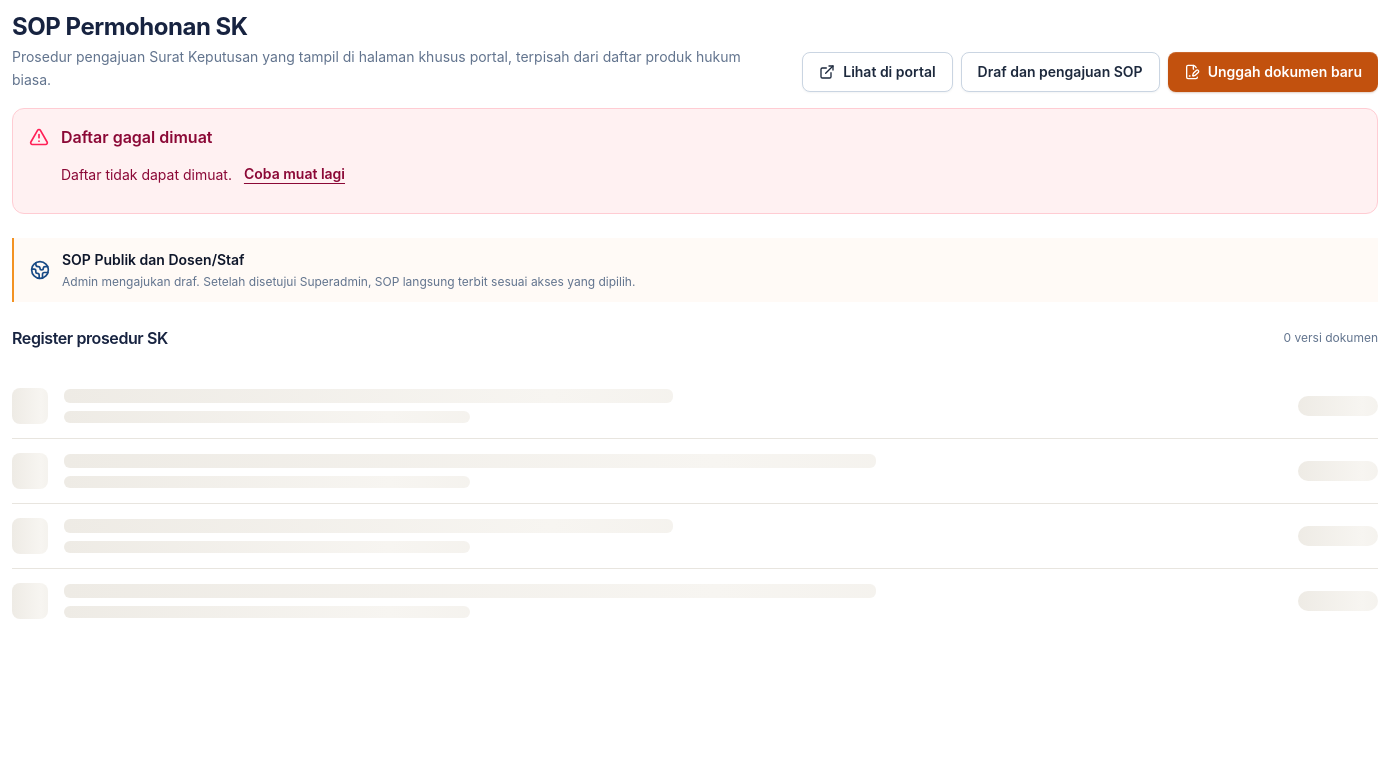
it: Admin membaca dokumen tanpa tindakan Superadmin; SOP khusus Superadmin › daftar SOP Admin dapat dimuat ulang setelah API gagal
Click the button "Coba muat lagi" at (294, 174), box 244,152 -> 345,196
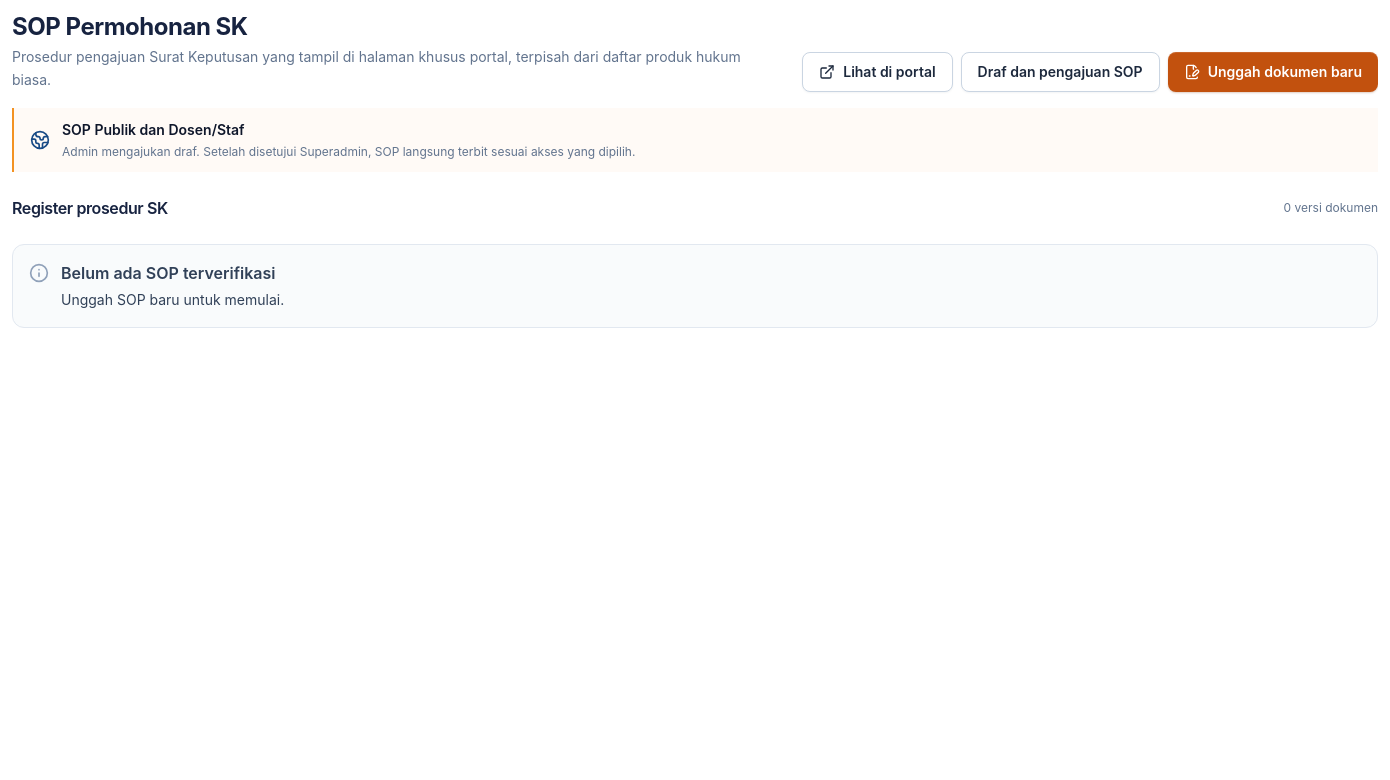
expect the text "Belum ada SOP terverifikasi" is shown: met, box 61,260 -> 284,284
expect the text "Daftar gagal dimuat" is gone: met
